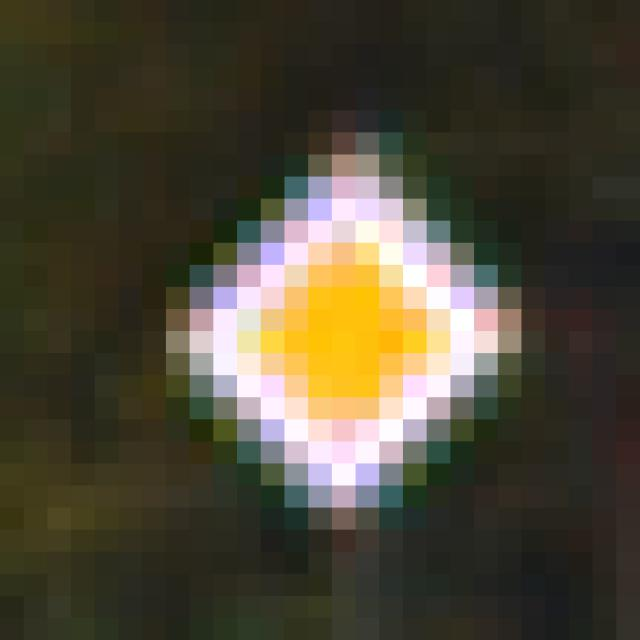Main Road: (143, 134, 523, 531)
